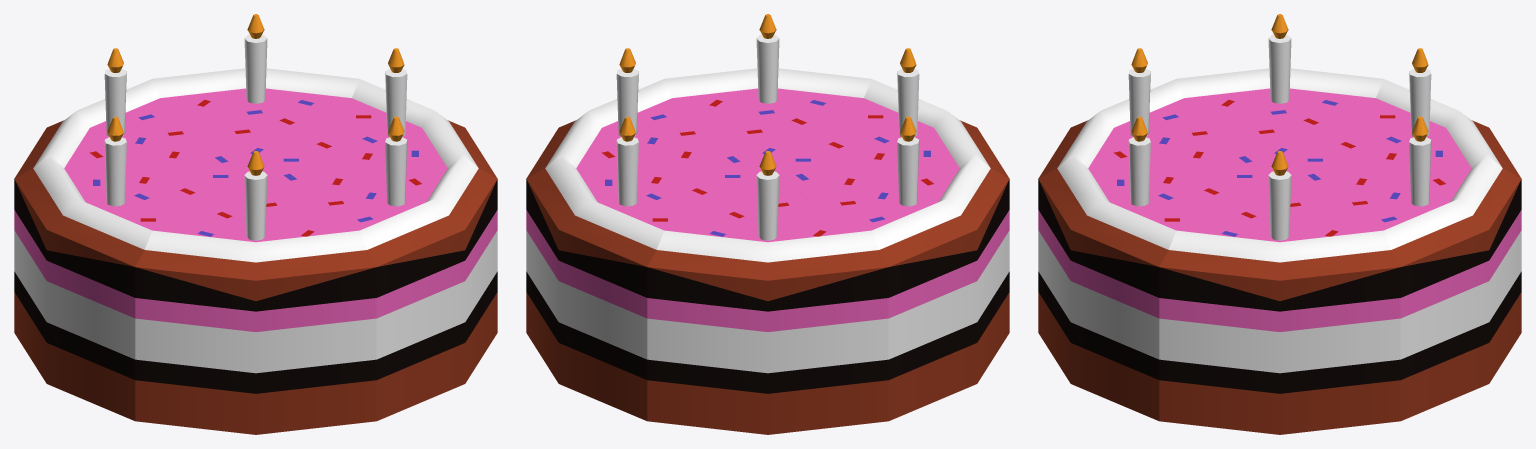
Rendered from cakeBirthday.obj.
3 renders of one model, left to right at view 1: azimuth 30°, elevation 25°; view 2: azimuth 150°, elevation 25°; view 3: azimuth 270°, elevation 25°, orthographic.
Parts seen in each view (by area): view 1: slice; view 2: slice; view 3: slice.
Part boxes in pixels (bbox=[...]): slice: bbox=[14, 14, 497, 434]; slice: bbox=[526, 14, 1009, 434]; slice: bbox=[1038, 14, 1521, 434].
Bounding box in the file's own units: 0.6392 × 0.3638 × 0.6392.
